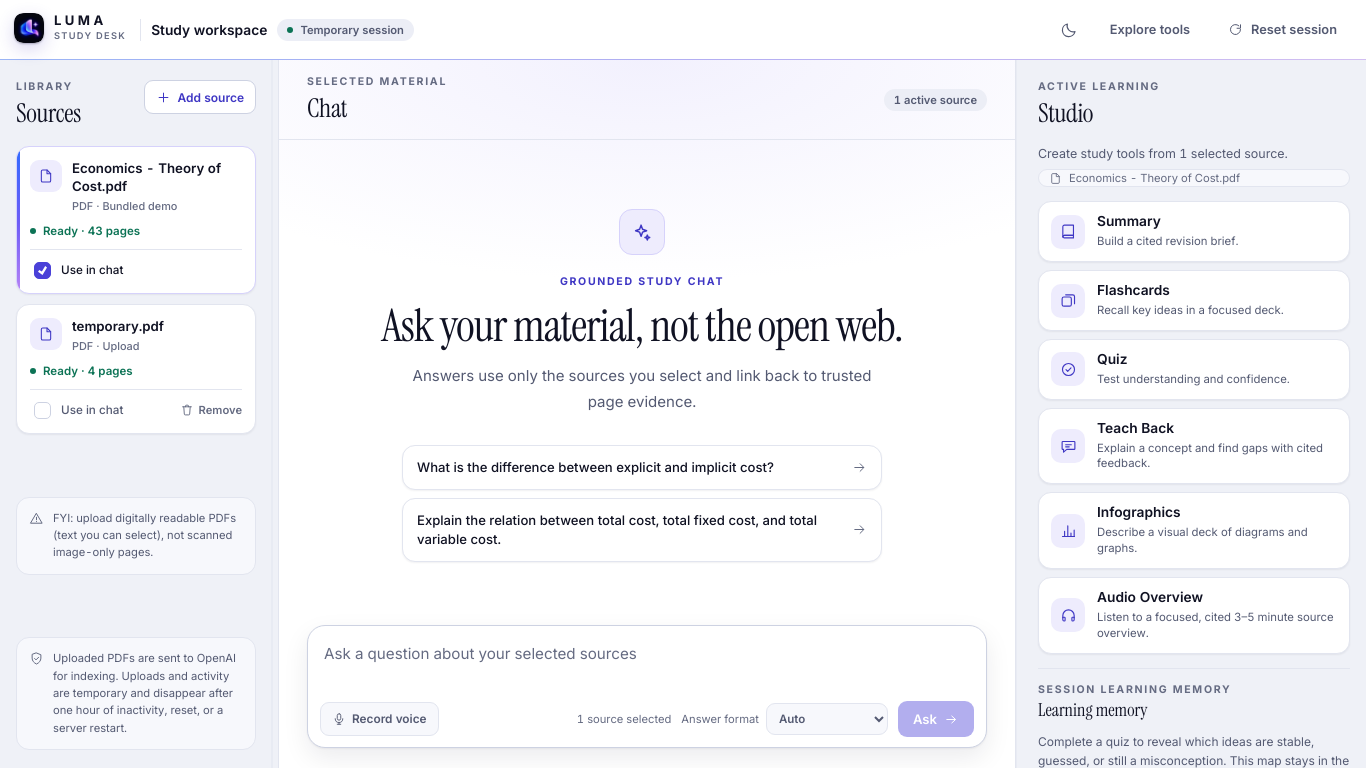
Test: WorkspacePage › removes an uploaded source
Expected: the text "temporary.pdf" is shown, left=72, top=318, right=164, bottom=336
Click the button "Remove": (211, 410) left=174, top=400, right=248, bottom=422
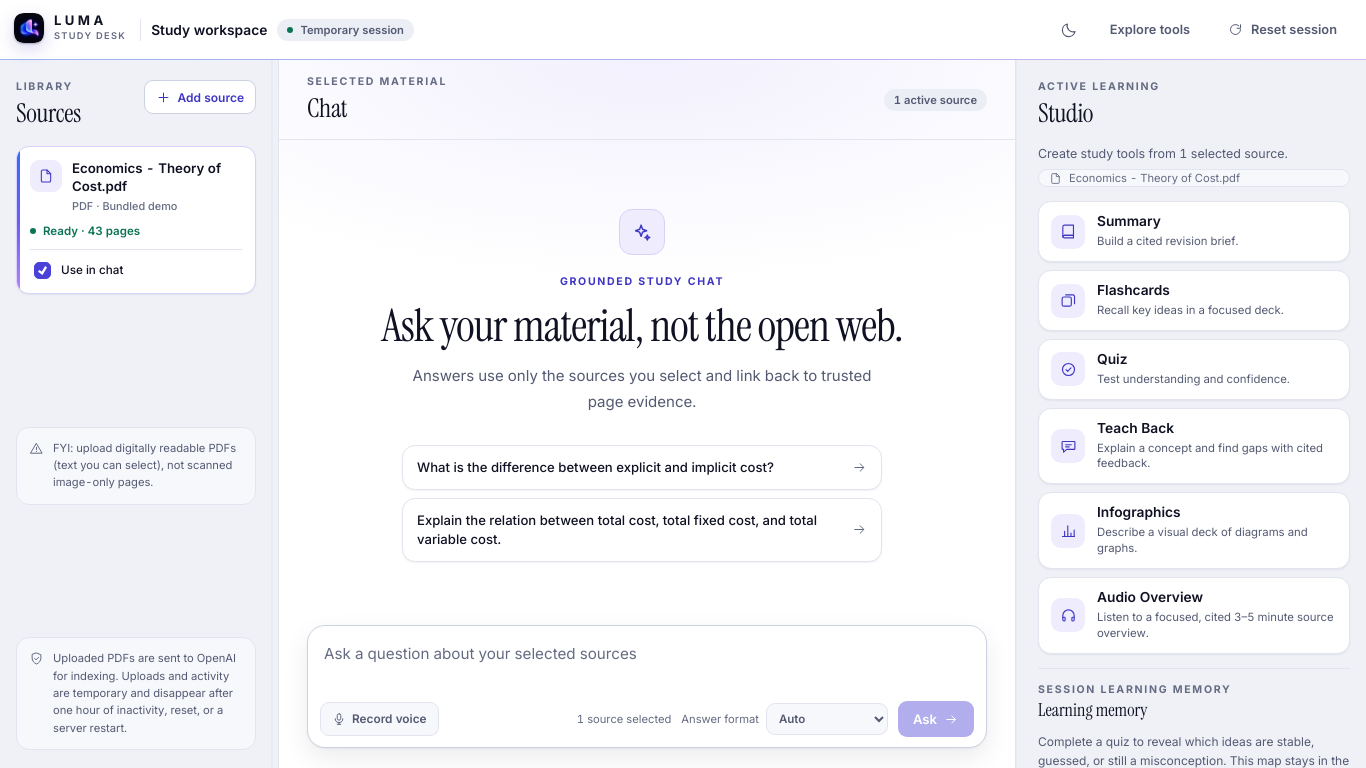
Expected: the text "temporary.pdf" is gone
